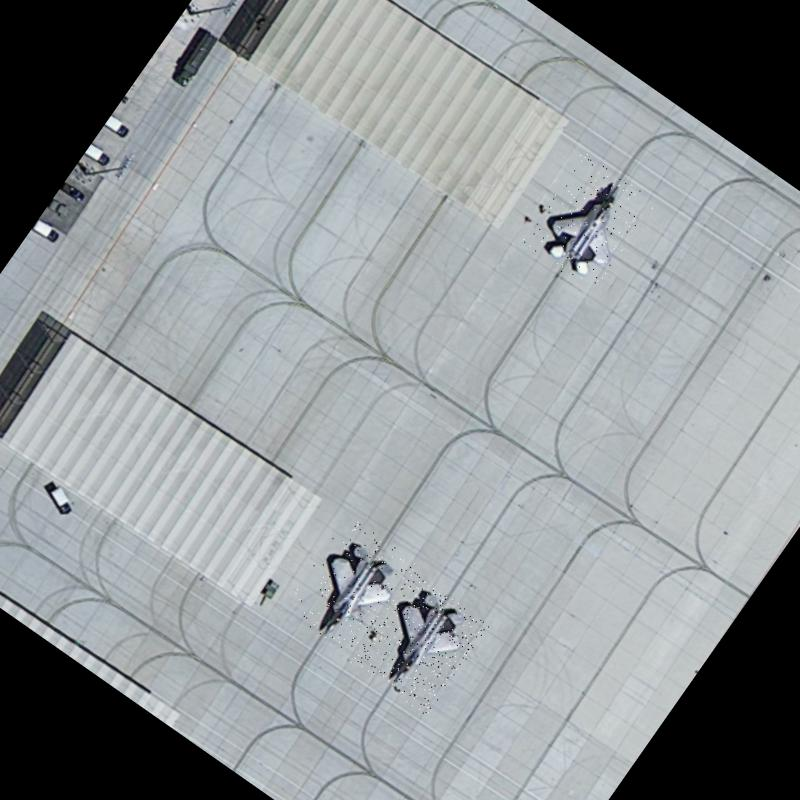A15: (349, 572, 490, 716), (519, 150, 658, 294), (283, 516, 418, 658)
